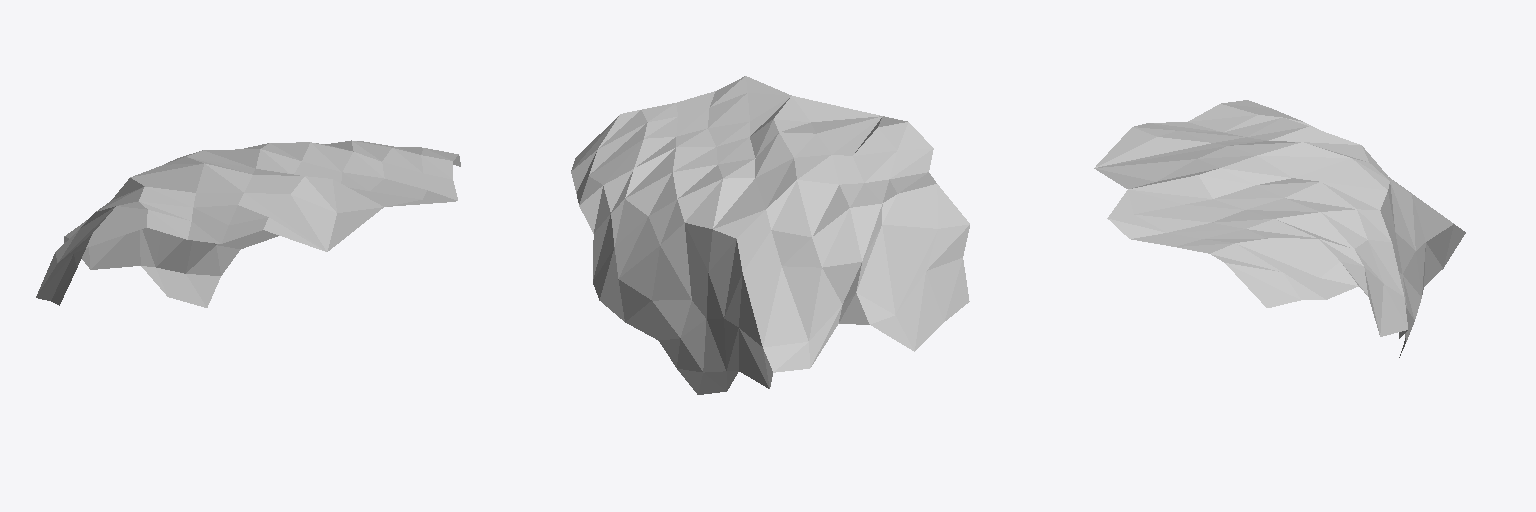
Rendered from MSH_env_grass-hanging-e.obj.
The picture shows the model from 3 angles: view 1: azimuth 30°, elevation 25°; view 2: azimuth 150°, elevation 25°; view 3: azimuth 270°, elevation 25°; orthographic projection.
Visible parts, largest first — view 1: MSH_env_grass_hanging_e group4; view 2: MSH_env_grass_hanging_e group4; view 3: MSH_env_grass_hanging_e group4.
Part boxes in pixels (left/top/right/bottom): MSH_env_grass_hanging_e group4: left=36, top=140, right=460, bottom=307; MSH_env_grass_hanging_e group4: left=571, top=76, right=969, bottom=394; MSH_env_grass_hanging_e group4: left=1094, top=100, right=1465, bottom=357.
Bounding box in the file's own units: 36.51 × 17.25 × 29.58.